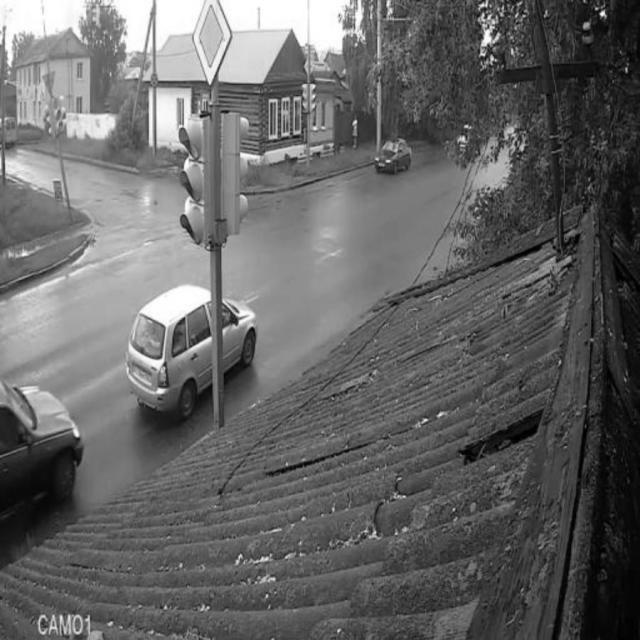vehicle: (126, 281, 257, 418), (1, 385, 84, 522), (375, 136, 413, 178)
